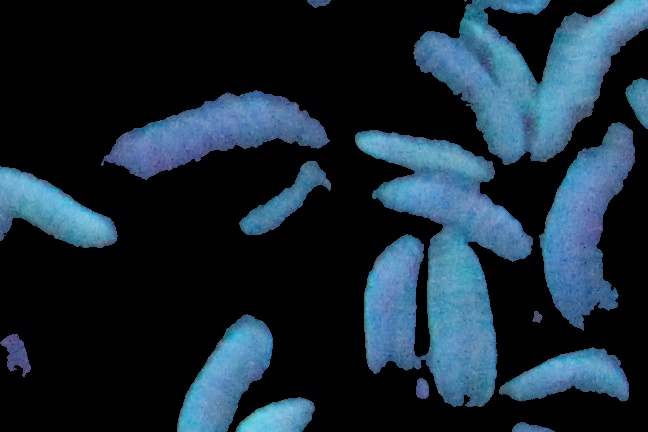larvae: (76, 76, 332, 163), (536, 136, 637, 323), (534, 1, 639, 156), (414, 22, 524, 152), (377, 172, 537, 256), (432, 227, 501, 410), (353, 232, 433, 383), (173, 306, 268, 432), (1, 161, 119, 251), (348, 125, 492, 193), (503, 335, 629, 410), (458, 18, 537, 106), (239, 392, 318, 432)
